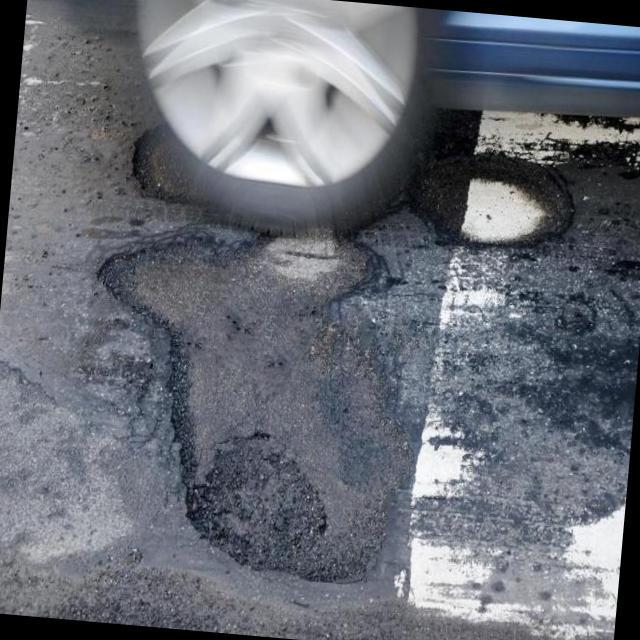Pothole: (101, 231, 414, 583), (411, 156, 569, 246)
